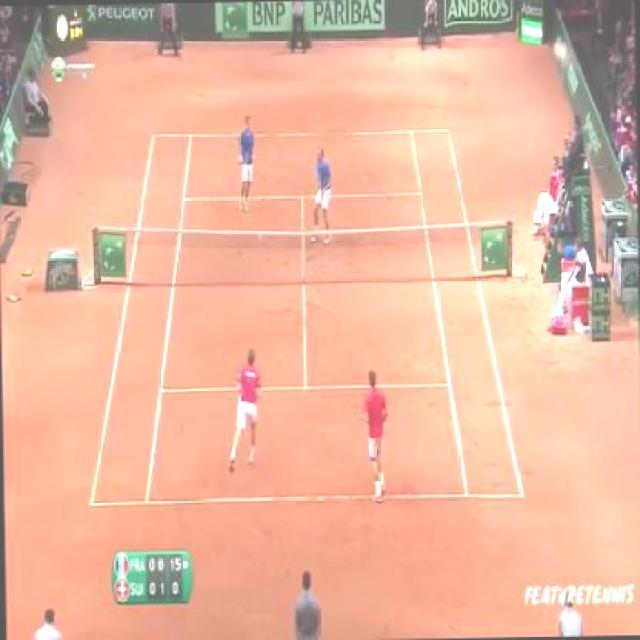non-fight: (224, 346, 264, 474), (356, 364, 390, 506), (307, 136, 335, 255), (233, 110, 258, 213)
